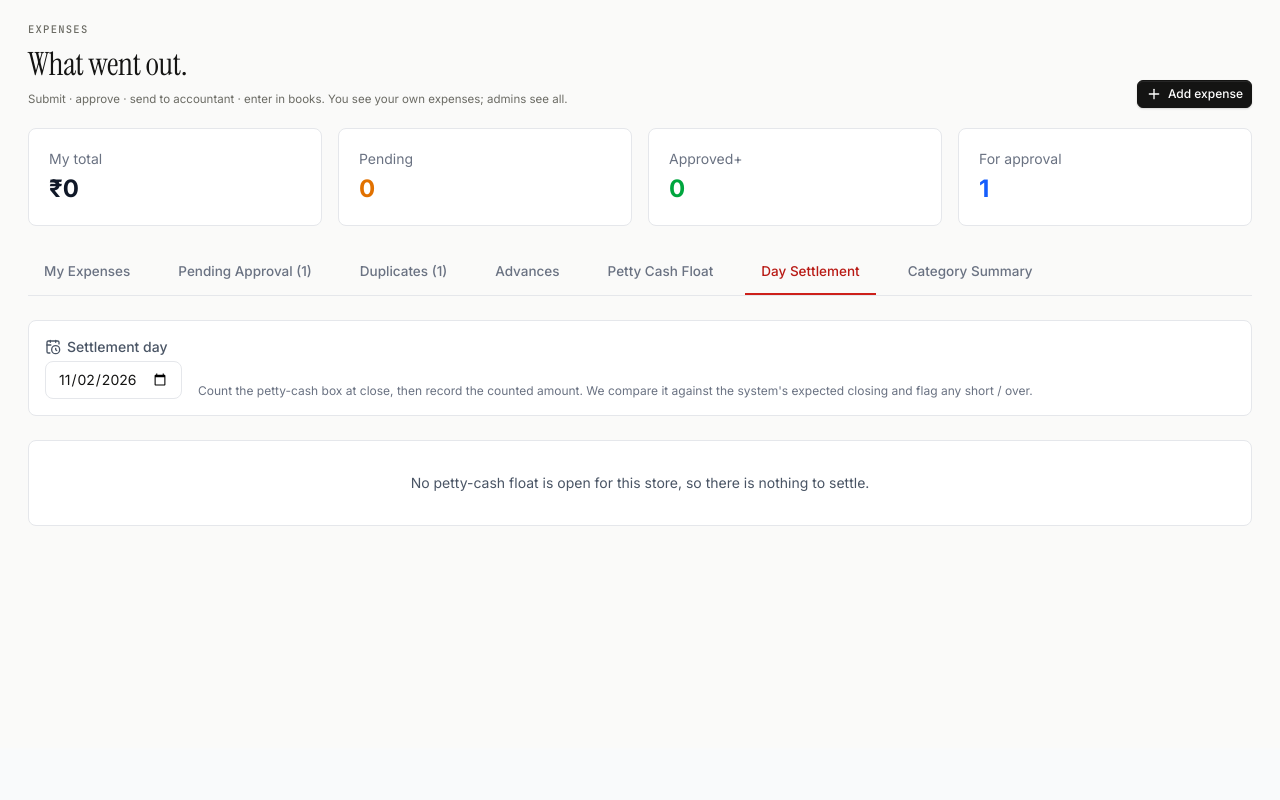
it: the open section survives a layout reload › Day Settlement keeps the picked day after a settle
In the date field labelled "Settlement day": [114, 380] box top-left (45, 361), bottom-right (182, 399), type "2025-01-15"
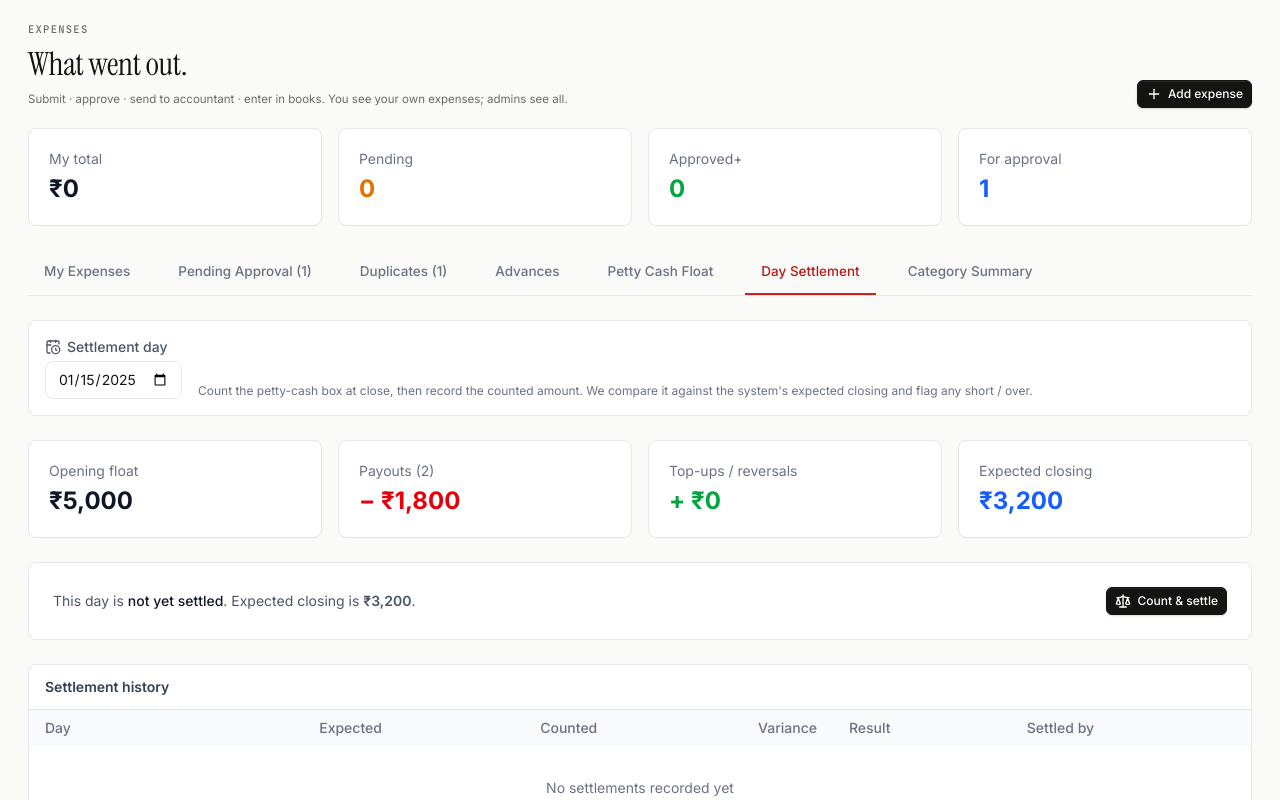
Click the button "Count & settle": [1167, 601] box top-left (1106, 587), bottom-right (1227, 615)
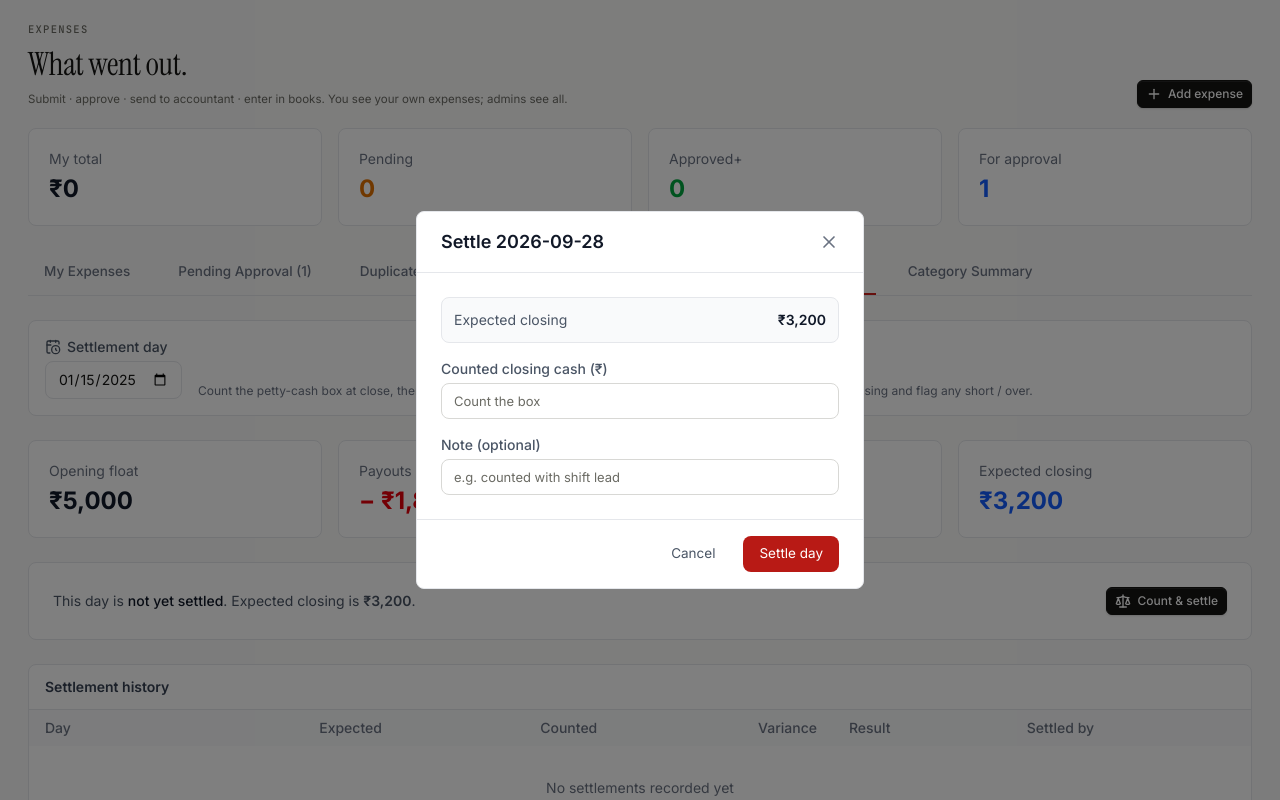
In the number field with placeholder "Count the box": [640, 401] box top-left (441, 383), bottom-right (839, 419), type "3200"
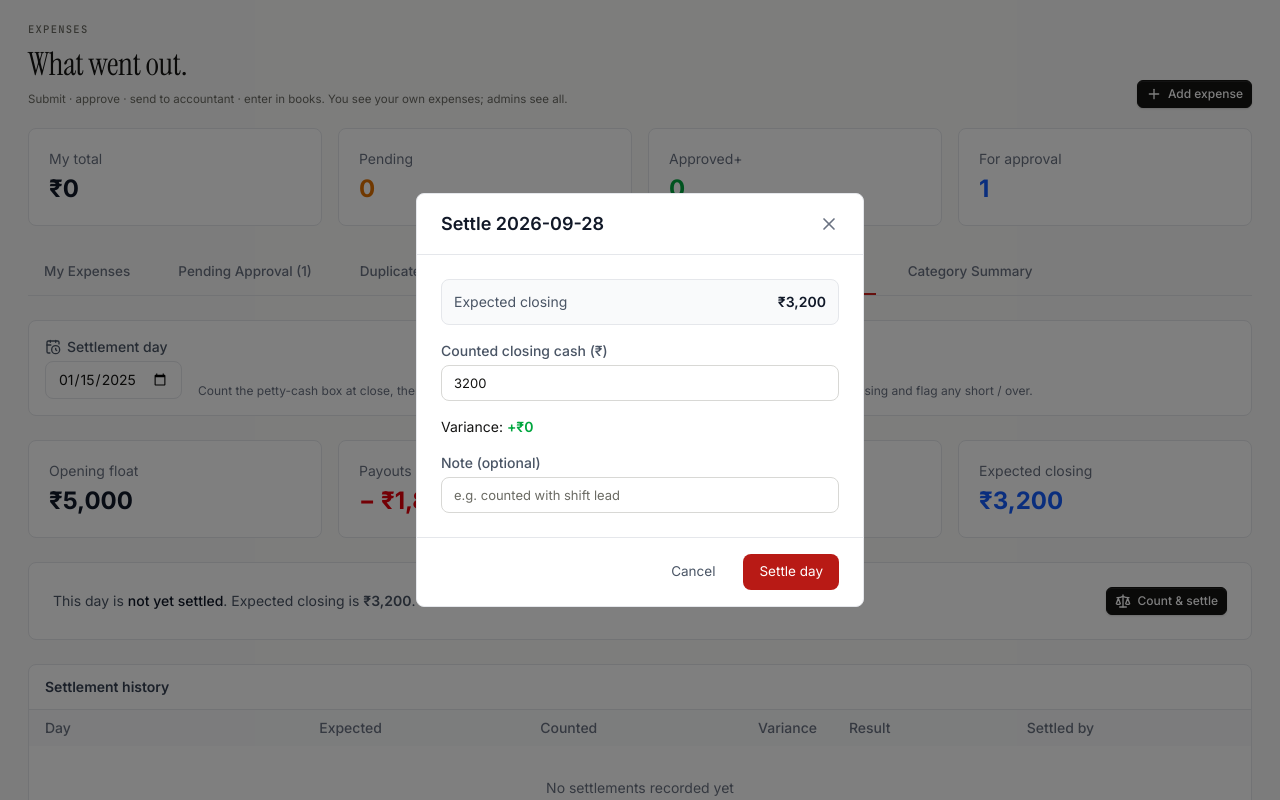
Click the button "Settle day": [791, 572] box top-left (744, 554), bottom-right (839, 590)
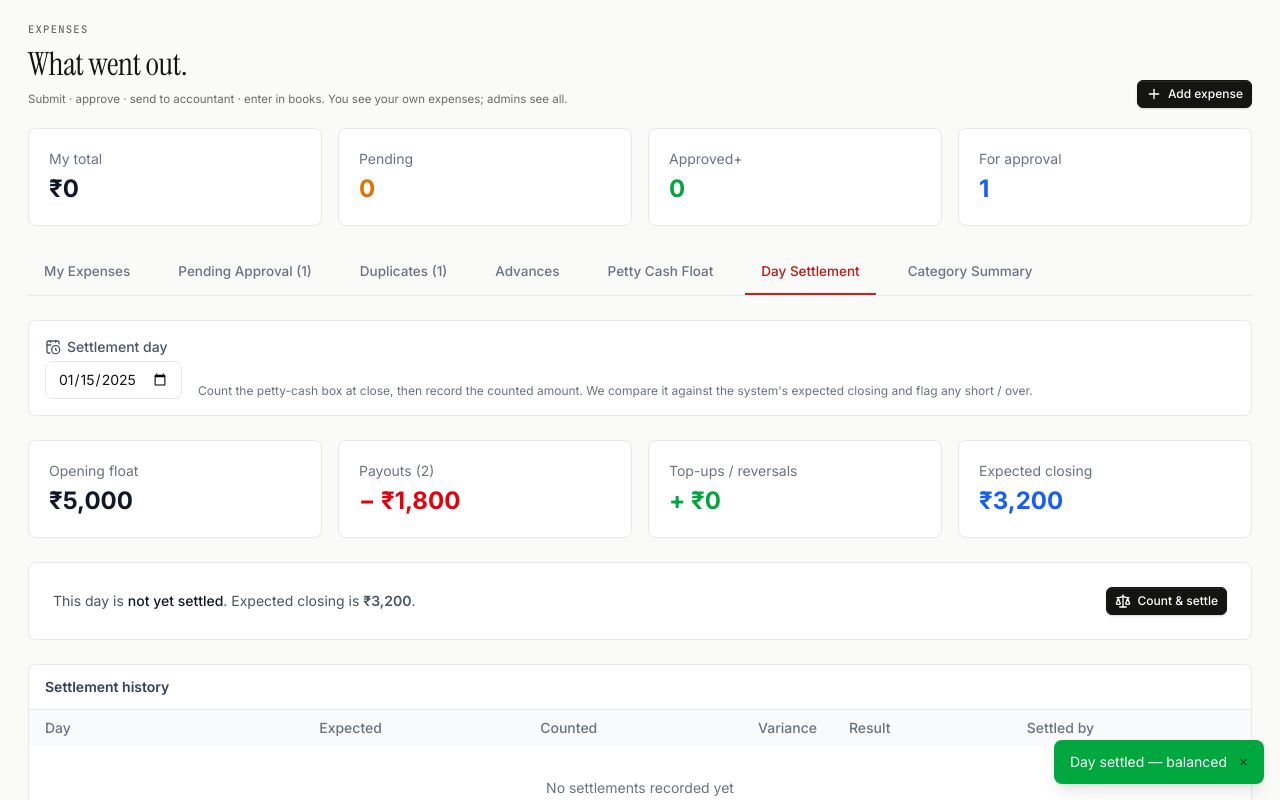
Expected: the text "Day settled — balanced" is shown, top-left (1070, 752), bottom-right (1227, 772)
